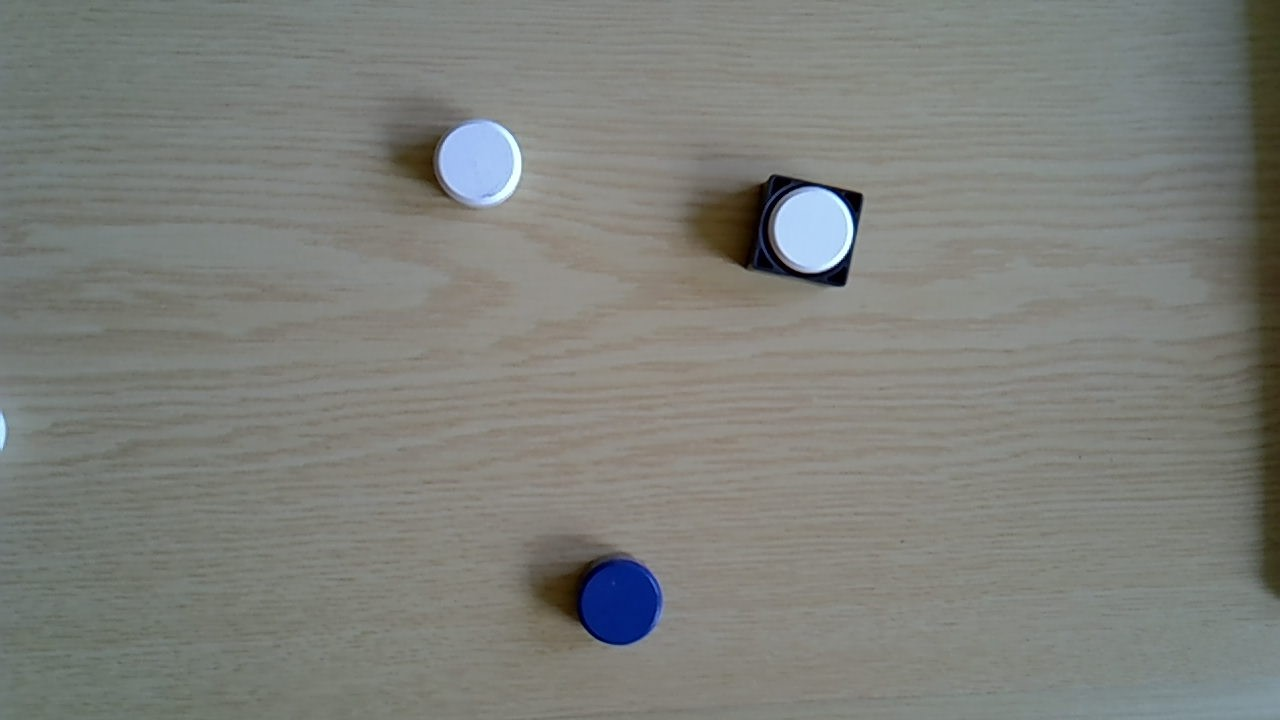Behaelter: (739, 173, 867, 289)
WerkStueck: (431, 117, 525, 210), (578, 557, 665, 646), (765, 187, 853, 273)
